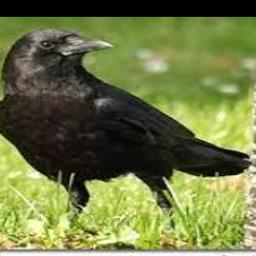Crow: (0, 26, 254, 250)
